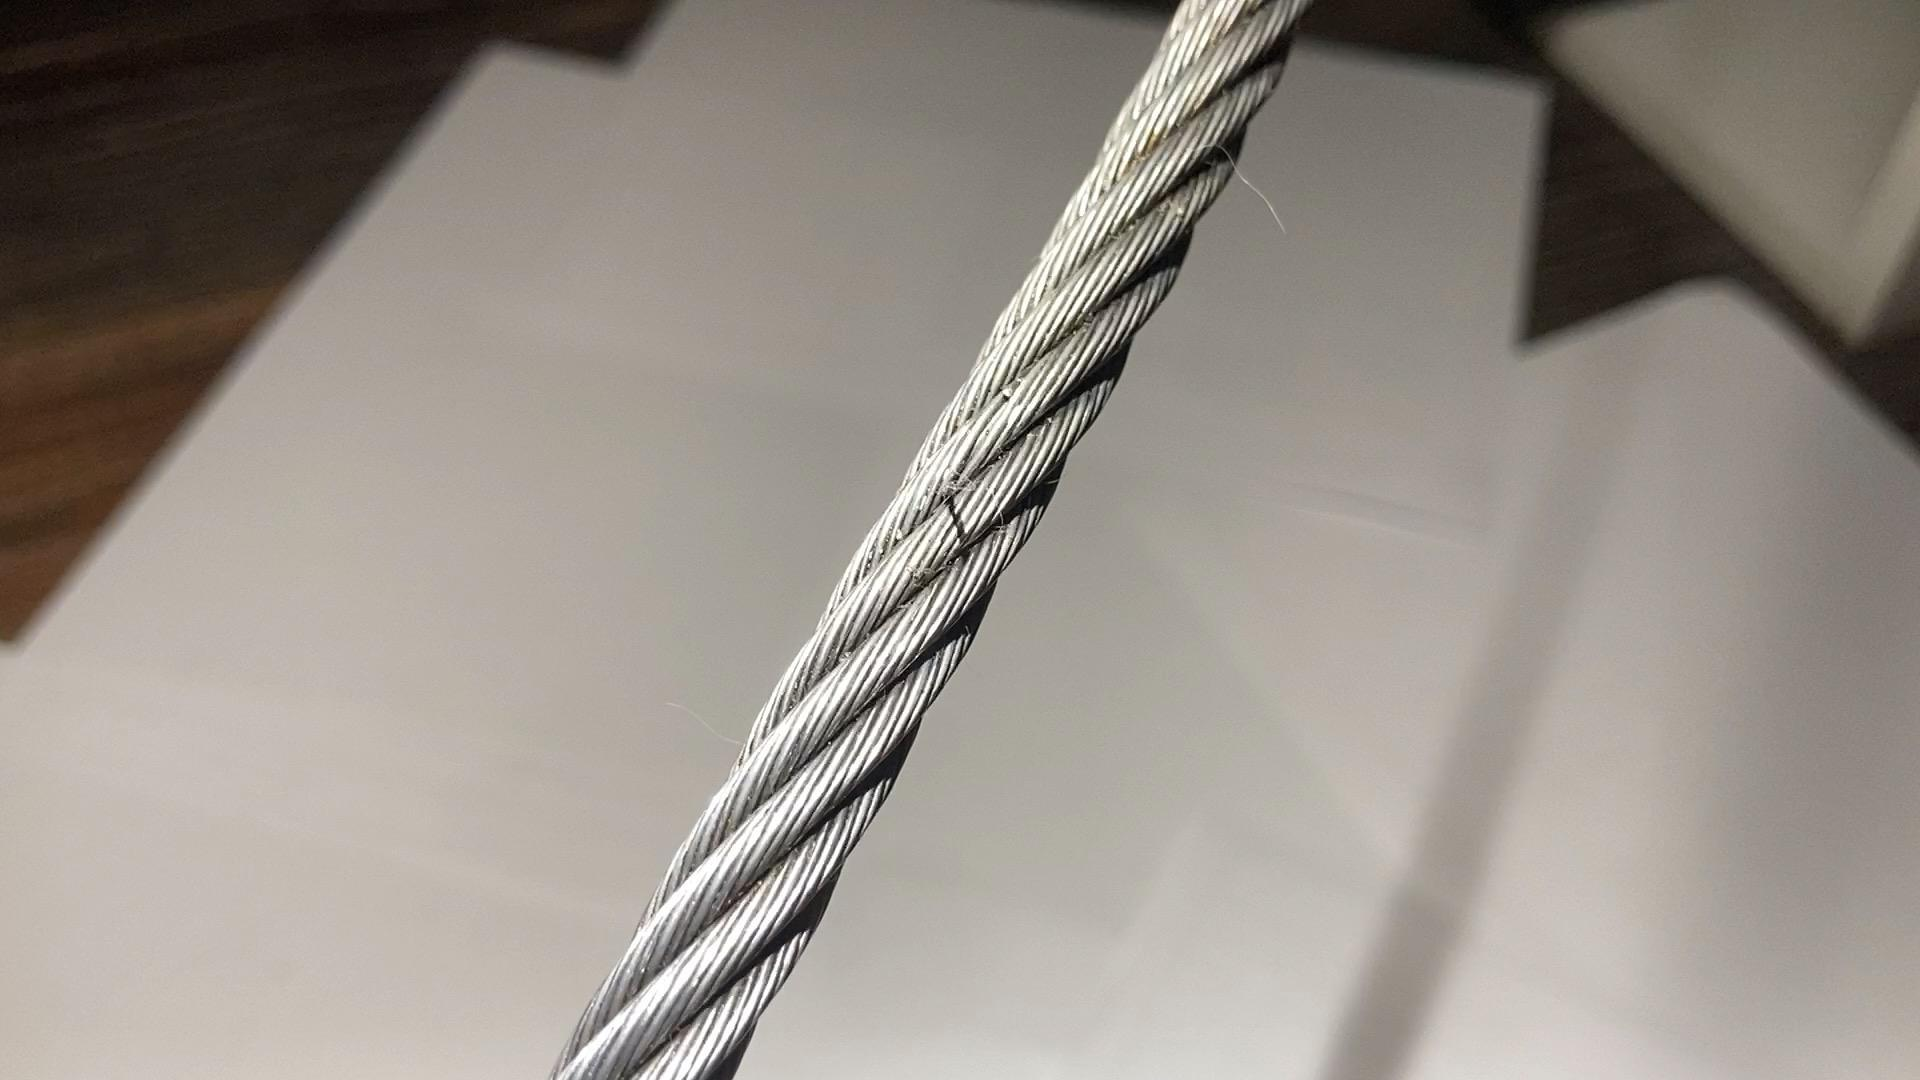break: (915, 458, 984, 563)
